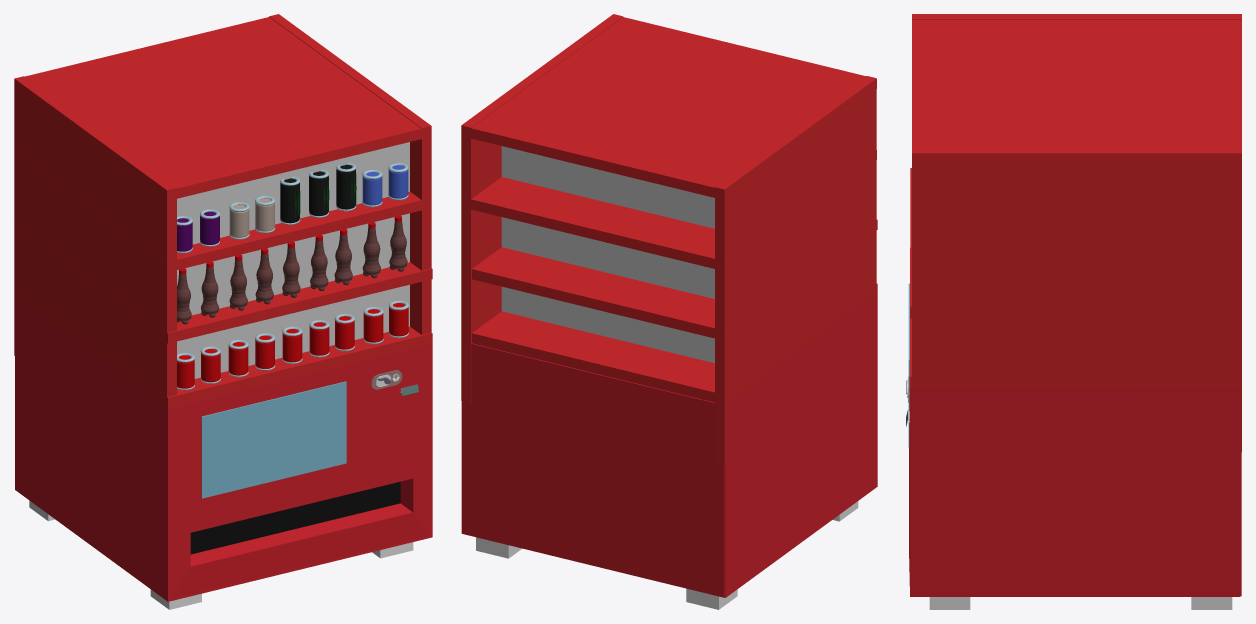
The model's file is vending_machine.fbx.
The picture shows the model from 3 angles, left to right: view 1: azimuth 30°, elevation 25°; view 2: azimuth 150°, elevation 25°; view 3: azimuth 270°, elevation 25°; orthographic projection. The views are drawn at different scales.
Visible parts, largest first — view 1: 立方体, 立方体.003, 立方体.002, 立方体.012, 立方体.017, 立方体.035, 立方体.001, 立方体.004, 立方体.011, 立方体.005, 立方体.016, 円柱.033 (+24 smaller); view 2: 立方体.035, 立方体.003, 立方体.002, 立方体, 立方体.012, 立方体.004, 立方体.001, 立方体.011, 立方体.005, 立方体.010, 立方体.008; view 3: 立方体, 立方体.005, 立方体.003, 立方体.001, 立方体.011, 立方体.004, 立方体.002, 立方体.007, 立方体.008.
Boxes of the visible parts, left/top/right/bottom form: 立方体: left=15, top=296, right=432, bottom=601; 立方体.003: left=14, top=17, right=431, bottom=200; 立方体.002: left=14, top=76, right=176, bottom=397; 立方体.012: left=177, top=142, right=409, bottom=378; 立方体.017: left=201, top=381, right=346, bottom=498; 立方体.035: left=168, top=343, right=432, bottom=600; 立方体.001: left=15, top=222, right=432, bottom=343; 立方体.004: left=14, top=151, right=431, bottom=272; 立方体.011: left=15, top=286, right=432, bottom=407; 立方体.005: left=269, top=14, right=431, bottom=334; 立方体.016: left=190, top=481, right=400, bottom=554; 円柱.033: left=280, top=178, right=299, bottom=223; 立方体.035: left=461, top=343, right=724, bottom=597; 立方体.003: left=461, top=17, right=876, bottom=199; 立方体.002: left=715, top=76, right=876, bottom=465; 立方体: left=472, top=293, right=877, bottom=597; 立方体.012: left=501, top=146, right=714, bottom=363; 立方体.004: left=461, top=150, right=876, bottom=270; 立方体.001: left=472, top=219, right=877, bottom=340; 立方体.011: left=472, top=283, right=877, bottom=404; 立方体.005: left=461, top=14, right=623, bottom=403; 立方体.010: left=686, top=588, right=737, bottom=609; 立方体.008: left=476, top=537, right=521, bottom=558; 立方体: left=909, top=248, right=1240, bottom=596; 立方体.005: left=912, top=148, right=1241, bottom=452; 立方体.003: left=912, top=19, right=1241, bottom=164; 立方体.001: left=910, top=168, right=1240, bottom=318; 立方体.011: left=910, top=318, right=1240, bottom=387; 立方体.004: left=912, top=231, right=1241, bottom=241; 立方体.002: left=912, top=14, right=1241, bottom=19; 立方体.007: left=929, top=597, right=970, bottom=609; 立方体.008: left=1191, top=597, right=1232, bottom=609.
Size of the model in its own units: 542 by 837 by 552.
